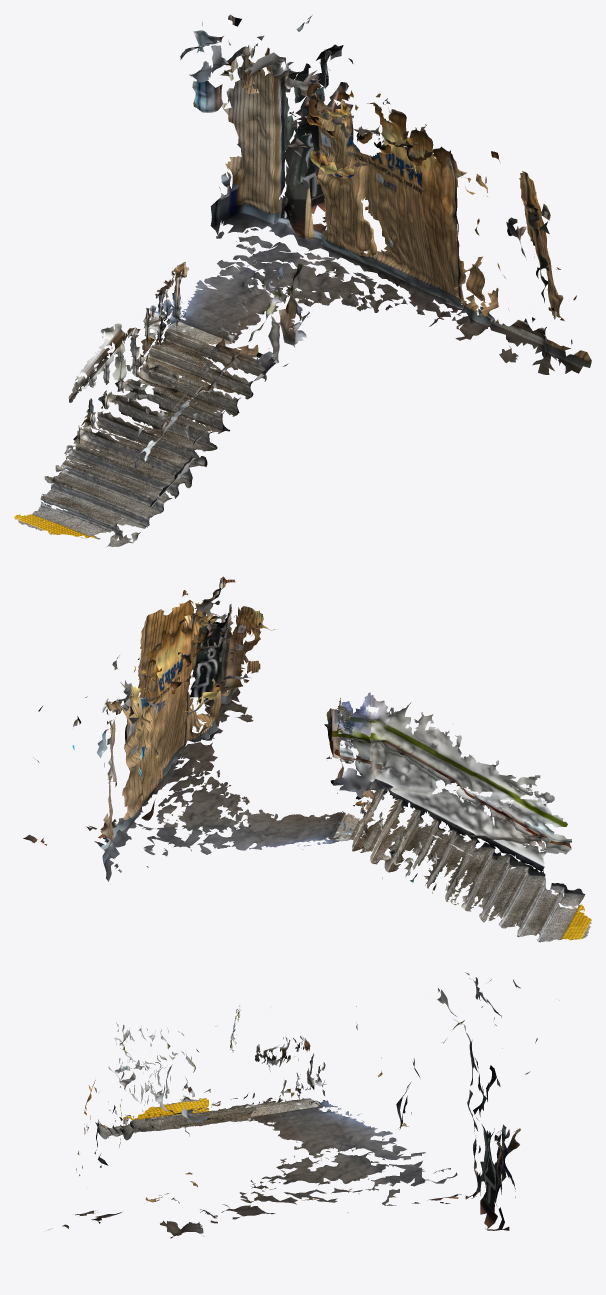
The model's file is 138616-Stair2-tex.glb.
3 views of the same model, one above another, from view 1: azimuth 30°, elevation 25°; view 2: azimuth 150°, elevation 25°; view 3: azimuth 270°, elevation 25° (orthographic). The views are drawn at different scales.
Parts seen in each view (by area): view 1: Node; view 2: Node; view 3: Node.
Part boxes in pixels (x1,y1,x2,y2): Node: (14, 14, 591, 546); Node: (23, 576, 591, 942); Node: (49, 972, 559, 1238).
Size of the model in its own units: 8.77 by 5.03 by 8.35.
Materials: 10 (10 with a texture image).
